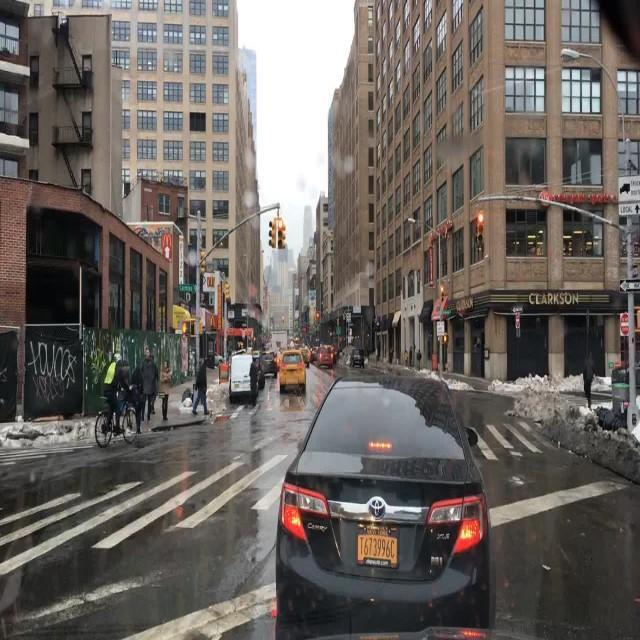normal: (278, 372, 498, 633), (277, 353, 306, 394), (314, 344, 336, 368), (262, 353, 280, 377)
